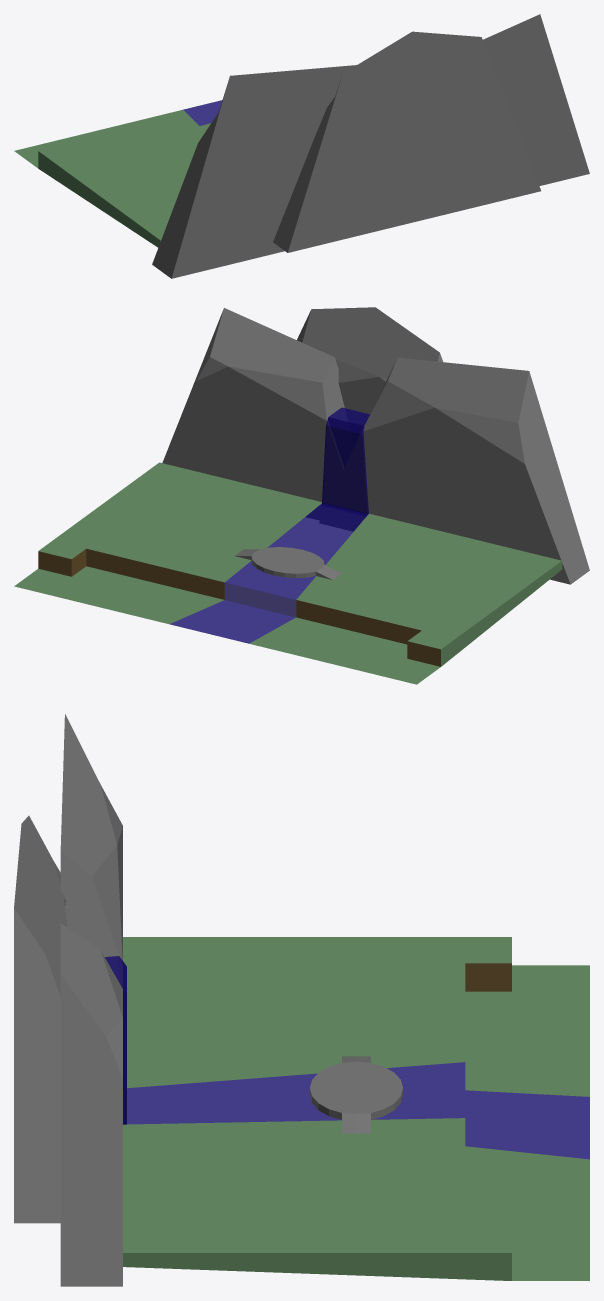
File: Environment 1v2 (2m).fbx
3 views of the same model, one above another, from view 1: azimuth 30°, elevation 25°; view 2: azimuth 150°, elevation 25°; view 3: azimuth 270°, elevation 25° (orthographic). The views are drawn at different scales.
Parts seen in each view (by area): view 1: Mountain.002, Mountain.001, Ground.001, Mountain, River; view 2: Ground.001, Mountain.001, Mountain, River, Mountain.002, River_Falls, Platform; view 3: Ground.001, Mountain, River, Mountain.002, Mountain.001, Platform, River_Falls.
Boxes of the visible parts, left/top/right/bottom form: Mountain.002: left=273, top=31, right=540, bottom=252; Mountain.001: left=152, top=65, right=356, bottom=278; Ground.001: left=14, top=109, right=210, bottom=247; Mountain: left=483, top=14, right=589, bottom=185; River: left=183, top=100, right=222, bottom=125; Ground.001: left=14, top=462, right=562, bottom=684; Mountain.001: left=319, top=357, right=589, bottom=584; Mountain: left=162, top=308, right=360, bottom=528; River: left=170, top=503, right=368, bottom=643; Mountain.002: left=297, top=307, right=443, bottom=424; River_Falls: left=322, top=407, right=370, bottom=515; Platform: left=235, top=547, right=341, bottom=579; Ground.001: left=123, top=937, right=589, bottom=1280; Mountain: left=60, top=923, right=122, bottom=1286; River: left=123, top=1062, right=589, bottom=1159; Mountain.002: left=14, top=815, right=66, bottom=1223; Mountain.001: left=60, top=714, right=122, bottom=987; Platform: left=309, top=1056, right=403, bottom=1133; River_Falls: left=105, top=956, right=126, bottom=1124.
Bounding box in the file's own units: 4948 × 2266 × 3700.
